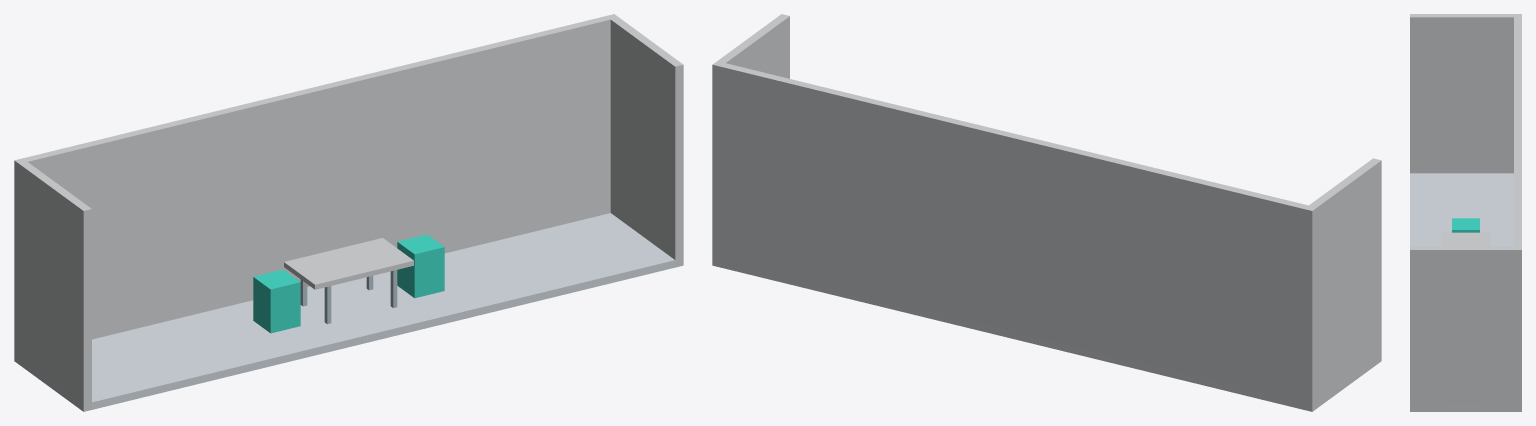
3 views of the same model, side by side, from view 1: azimuth 30°, elevation 25°; view 2: azimuth 150°, elevation 25°; view 3: azimuth 270°, elevation 25° (orthographic). The views are drawn at different scales.
Visible parts, largest first — view 1: Exhibition Booth Concept; view 2: Exhibition Booth Concept; view 3: Exhibition Booth Concept.
Part boxes in pixels (left/top/right/bottom): Exhibition Booth Concept: left=14, top=14, right=683, bottom=411; Exhibition Booth Concept: left=712, top=14, right=1381, bottom=411; Exhibition Booth Concept: left=1410, top=14, right=1521, bottom=411.
Bounding box in the file's own units: 10 × 3.2 × 2.
